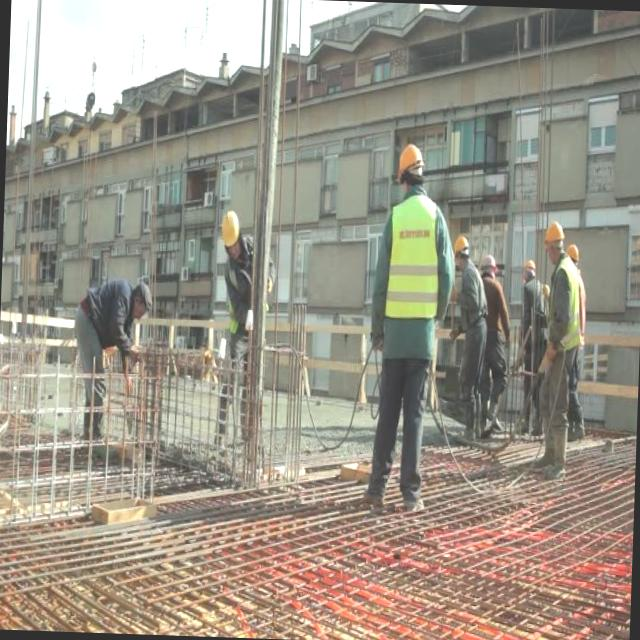helmet: (391, 138, 422, 177), (218, 208, 242, 246), (453, 230, 478, 258), (542, 221, 564, 248)
no-helmet: (134, 282, 152, 322)
no-vest: (80, 278, 131, 344), (226, 250, 254, 322), (458, 264, 484, 327)
vest: (386, 198, 437, 318)
